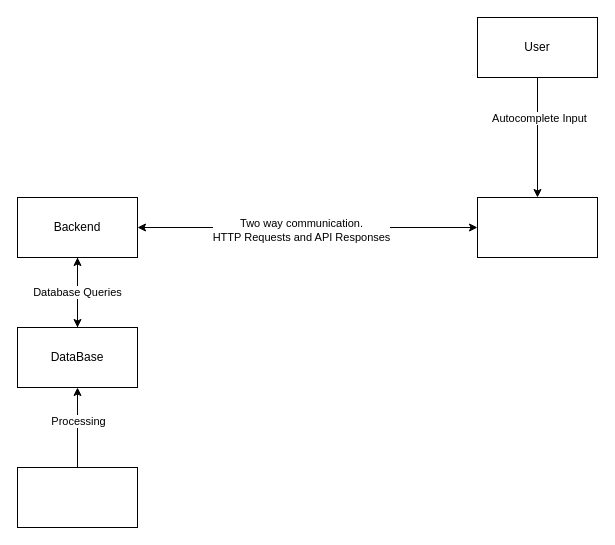
This 615x545 diagram has some shape labels left out. Each missing label, with the centre of its shape:
"Frontend" belongs at (x=537, y=227).
"Raw Data" belongs at (x=77, y=497).
